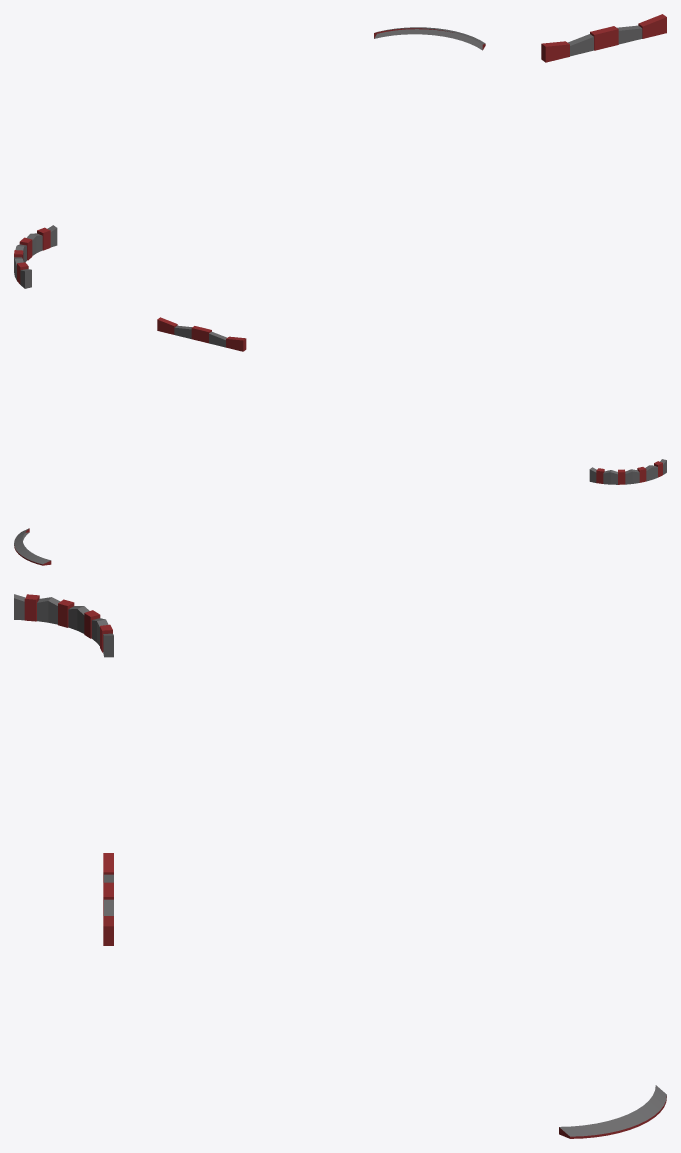
Rendered from roadHelp.fbx.
3 views of the same model, one above another, from view 1: azimuth 30°, elevation 25°; view 2: azimuth 150°, elevation 25°; view 3: azimuth 270°, elevation 25° (orthographic). The views are drawn at different scales.
Parts seen in each view (by area): view 1: wall, wallCurve, slope; view 2: wallCurve, wall, slope; view 3: wallCurve, slope, wall.
Boxes of the visible parts, x1,y1,x2,y2 form: wall: (541,14,666,62); wallCurve: (14,225,57,288); slope: (374,27,485,50); wallCurve: (589,459,666,484); wall: (157,317,246,351); slope: (14,528,51,565); wallCurve: (14,594,113,657); slope: (559,1085,666,1138); wall: (103,853,113,945).
Bounding box in the file's own units: 11956 × 2804 × 7971.
